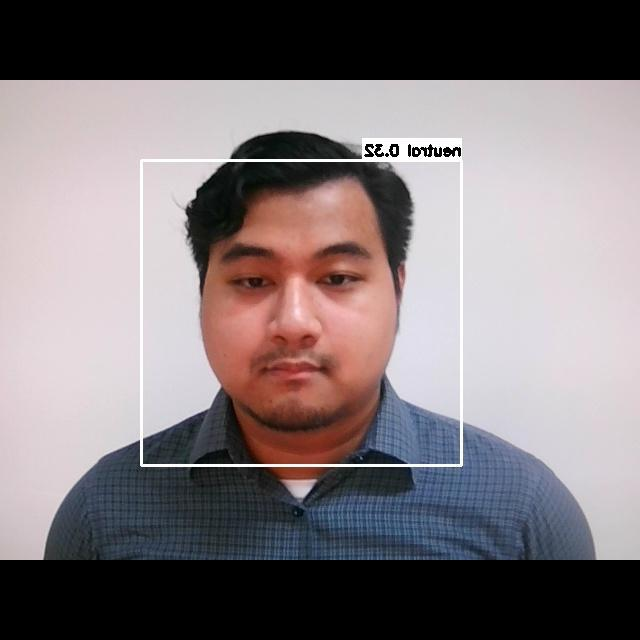Natural: (193, 219, 411, 376)
